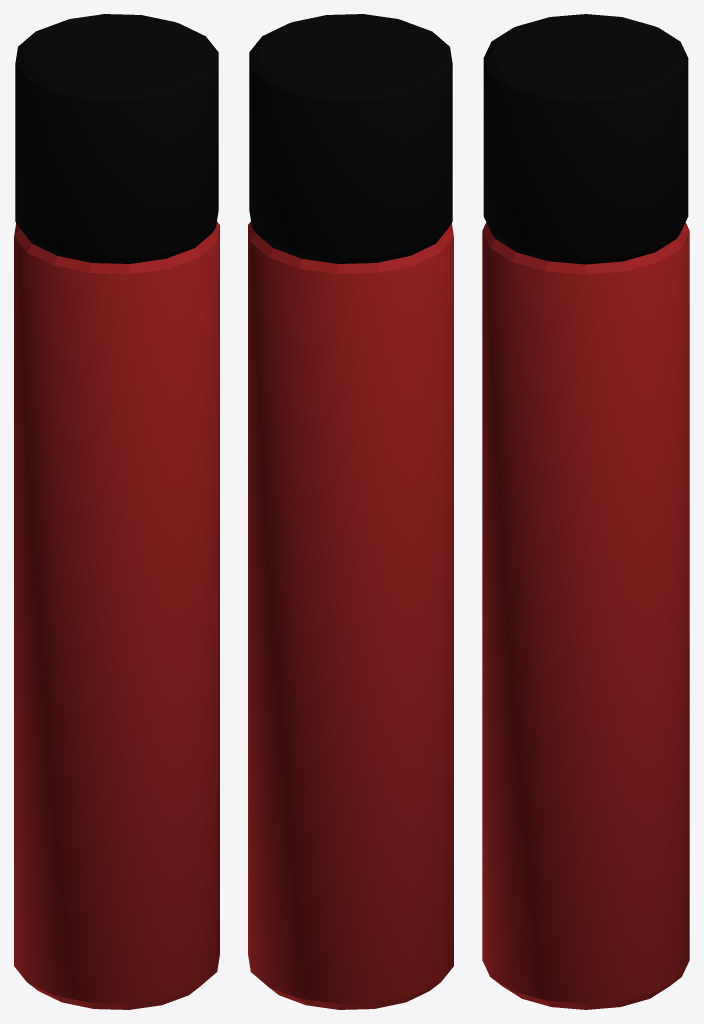
File: Cleaning_Bottle_1.fbx
3 views of the same model, side by side, from view 1: azimuth 30°, elevation 25°; view 2: azimuth 150°, elevation 25°; view 3: azimuth 270°, elevation 25° (orthographic).
Visible parts, largest first — view 1: Cylinder.035; view 2: Cylinder.035; view 3: Cylinder.035.
Part boxes in pixels (<box>): Cylinder.035: <box>14,14,219,1009</box>; Cylinder.035: <box>248,14,453,1009</box>; Cylinder.035: <box>482,14,689,1009</box>.
Bounding box in the file's own units: 7.06 × 34.46 × 7.06.
